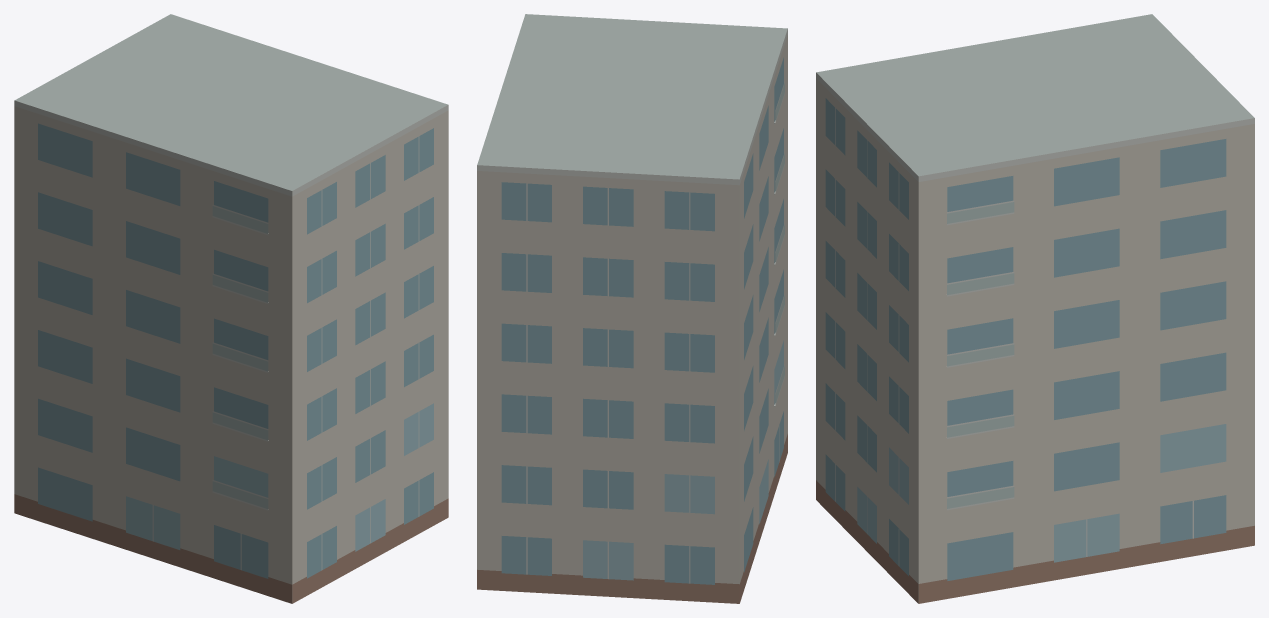
File: survey-upis-33001849.glb
The picture shows the model from 3 angles, left to right: view 1: azimuth 30°, elevation 25°; view 2: azimuth 150°, elevation 25°; view 3: azimuth 270°, elevation 25°; orthographic projection. The views are drawn at different scales.
Visible parts, largest first — view 1: survey-upis-33001849.tmp; view 2: survey-upis-33001849.tmp; view 3: survey-upis-33001849.tmp.
Boxes of the visible parts, x1,y1,x2,y2 form: survey-upis-33001849.tmp: (14,14,448,603); survey-upis-33001849.tmp: (477,14,787,603); survey-upis-33001849.tmp: (816,14,1254,603).
Bounding box in the file's own units: 14.67 × 18 × 16.75.
